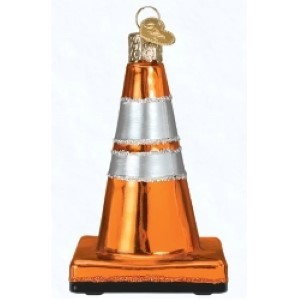traffic cone: (69, 62, 228, 293)
